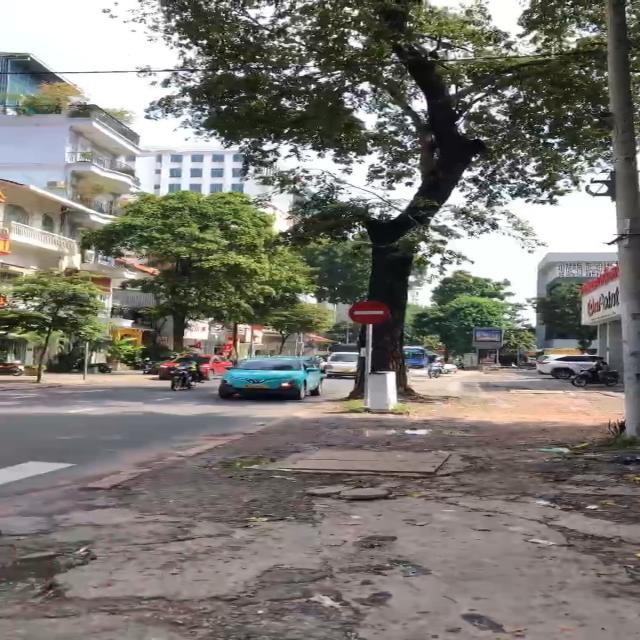Bien bao cam di nguoc chieu: (345, 298, 395, 326)
